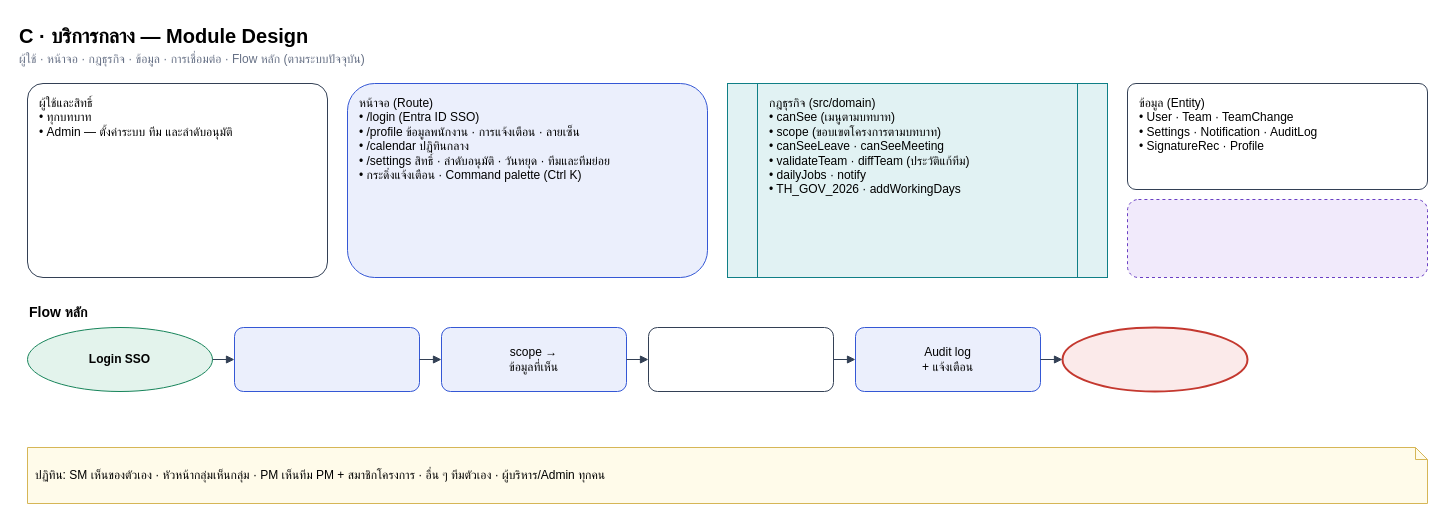
This 1445x521 diagram has some shape labels left out. The shapes that lost their labels are listed below. From the top down, each one's centre as x and y in pixels, then its label:
At pixel 1277 238: "เชื่อมต่อภายนอก • Entra ID App Roles • Outlook · Teams".
At pixel 327 359: "App Role → เมนูตามบทบาท".
At pixel 741 359: "ทำงานใน Module".
At pixel 1154 359: "งานตามเวลา รายวัน".
